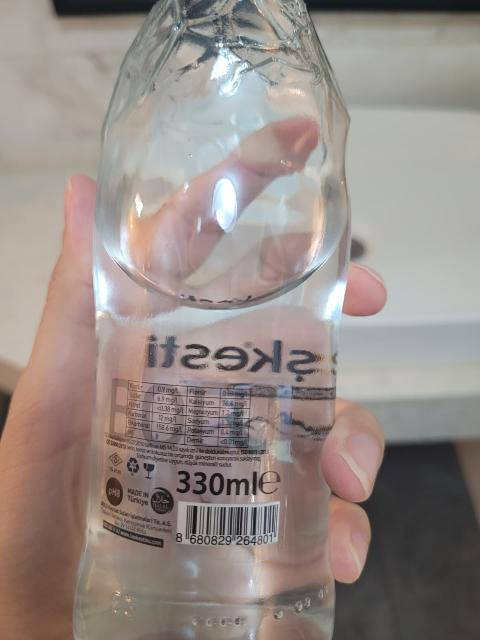Cam: (104, 2, 357, 640)
